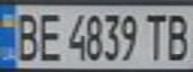3: (103, 10, 124, 62)
4: (63, 9, 87, 62)
8: (84, 10, 106, 62)
9: (118, 11, 142, 62)
B: (9, 9, 42, 62), (160, 10, 193, 62)
E: (33, 8, 63, 62)
T: (139, 10, 169, 62)
